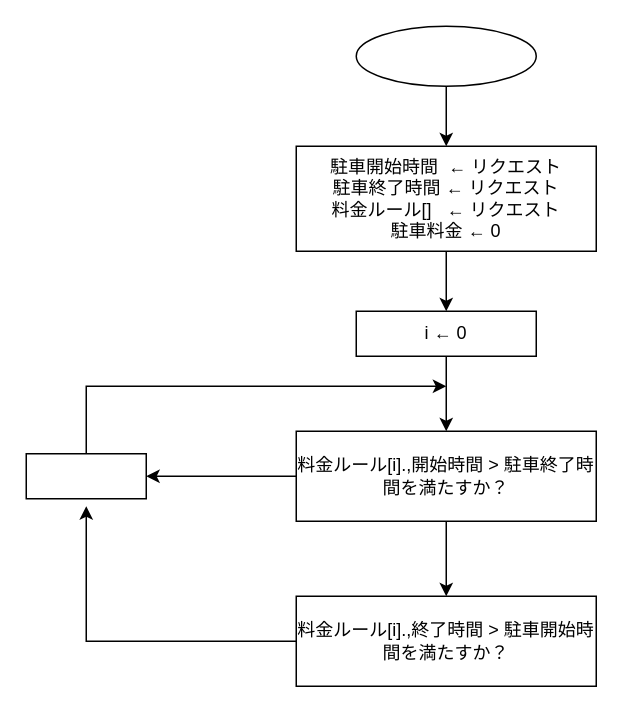
This 623x713 diagram has some shape labels left out. The centre of each missing label's shape, as x and y in pixels:
i ← i + 1: (x=85, y=475)
開始: (x=445, y=55)
